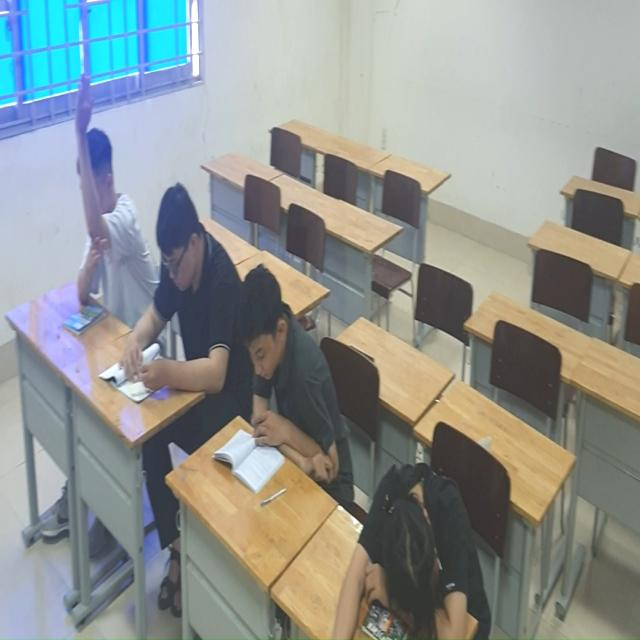raise_hand: (69, 47, 159, 350)
read: (222, 261, 350, 504), (113, 184, 225, 431)
sleep: (334, 455, 496, 640)
